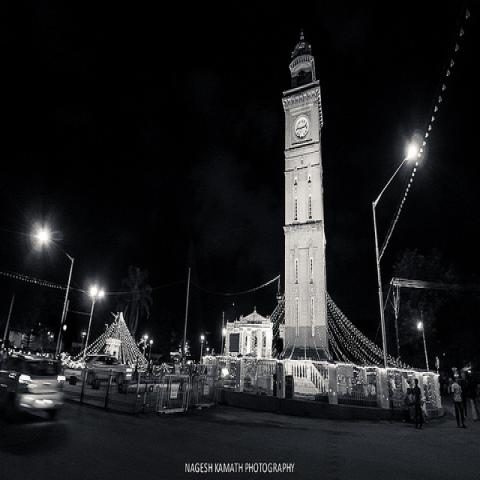car: (2, 373, 63, 429), (85, 355, 132, 387)
